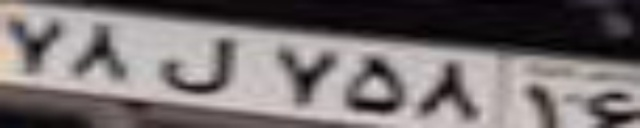1: (524, 81, 567, 127)
5: (341, 53, 399, 113)
6: (583, 86, 634, 126)
7: (274, 44, 334, 104), (11, 17, 62, 74)
8: (411, 55, 479, 119), (74, 23, 127, 81)
lam: (161, 32, 240, 94)
